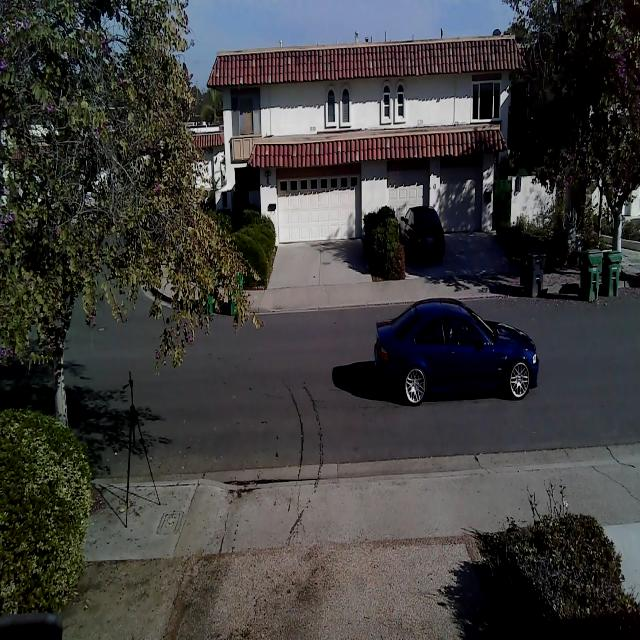Carbeetle: (368, 290, 543, 411)
Civilian: (397, 206, 445, 264)
